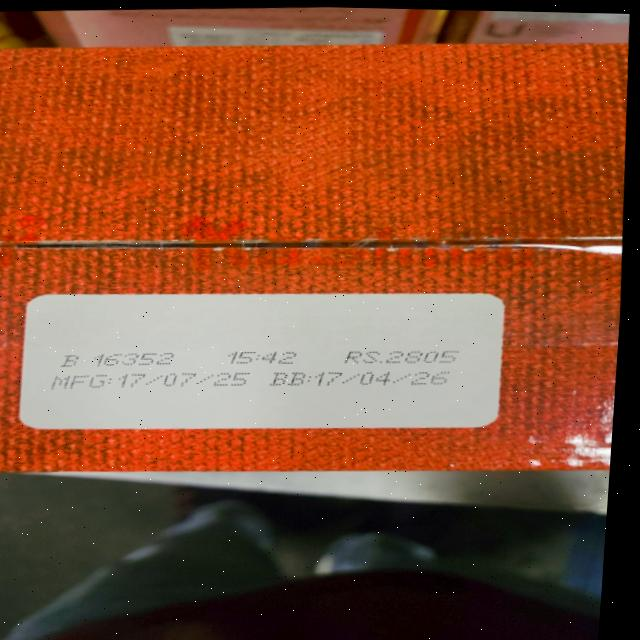BB: (273, 365, 460, 392)
Batch: (60, 349, 181, 369)
MFG: (51, 367, 251, 394)
RS: (342, 346, 464, 367)
TimeStamp: (225, 348, 299, 366)
